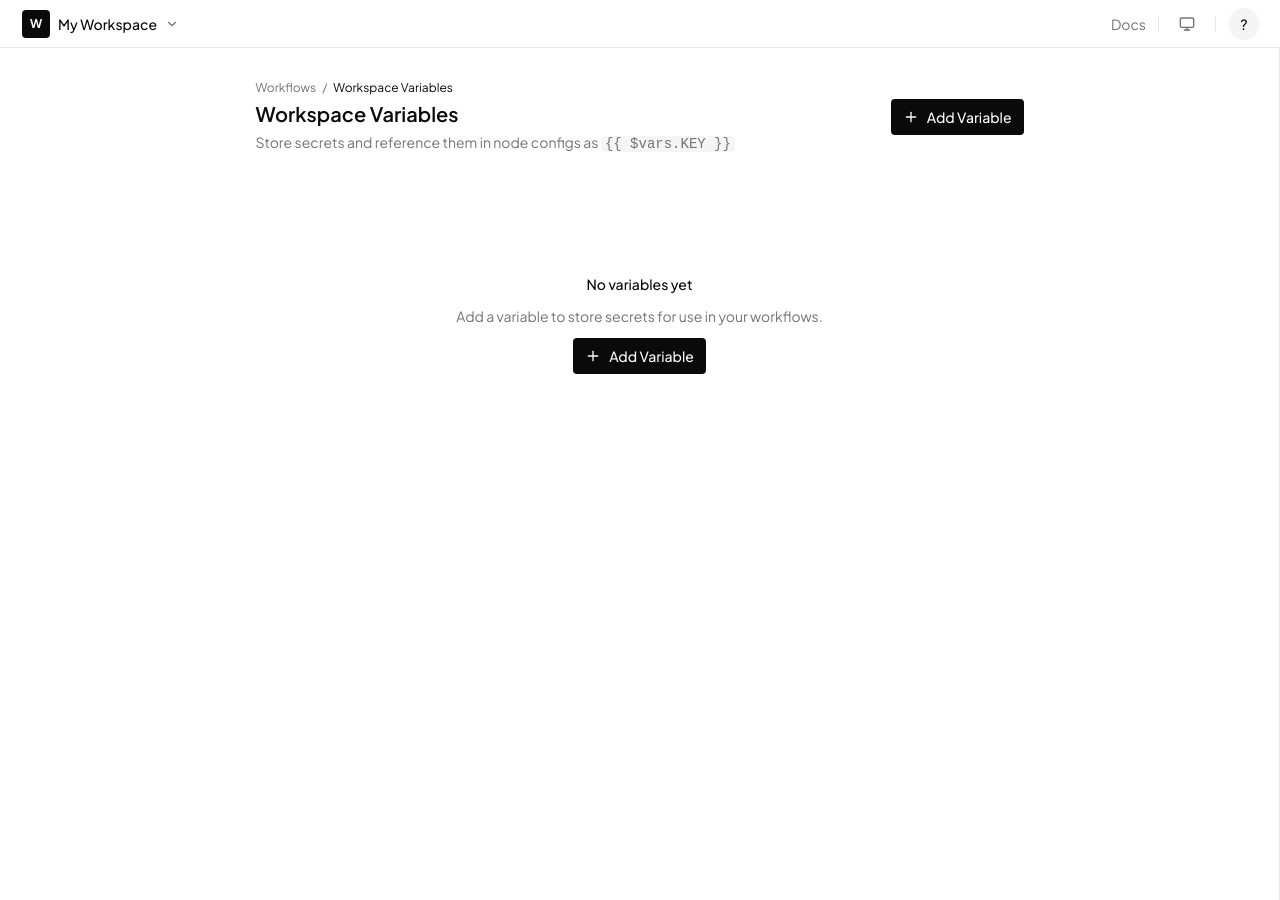
Test: VariablesPage — add variable drawer › shows a validation error when key contains invalid characters
Click the 1st button "Add Variable".
click(957, 117)  # box x1=891 y1=99 x2=1024 y2=135
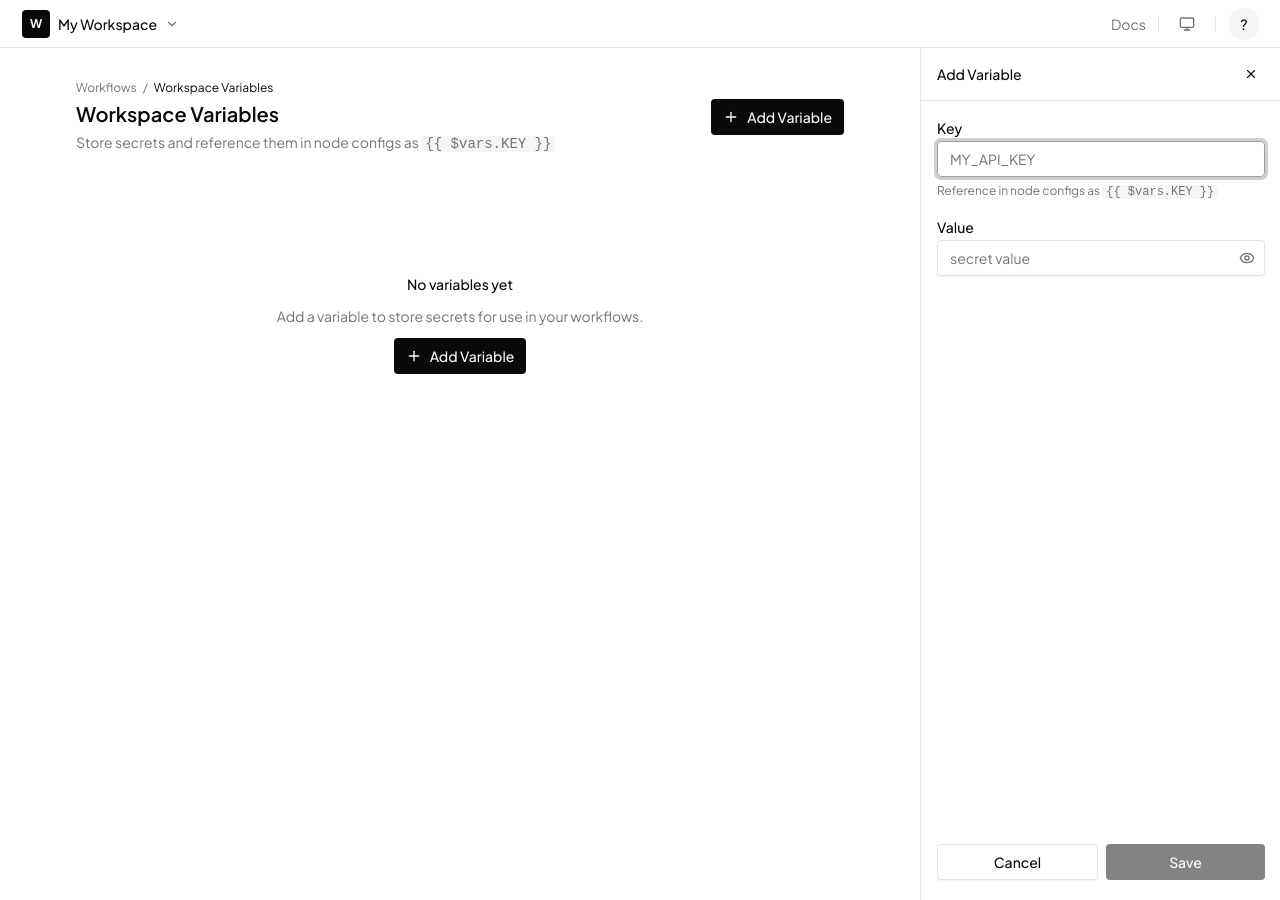
Type "invalid-key!" into the field labelled "Key".
click(1101, 159); type("invalid-key!")  # box x1=937 y1=141 x2=1265 y2=177
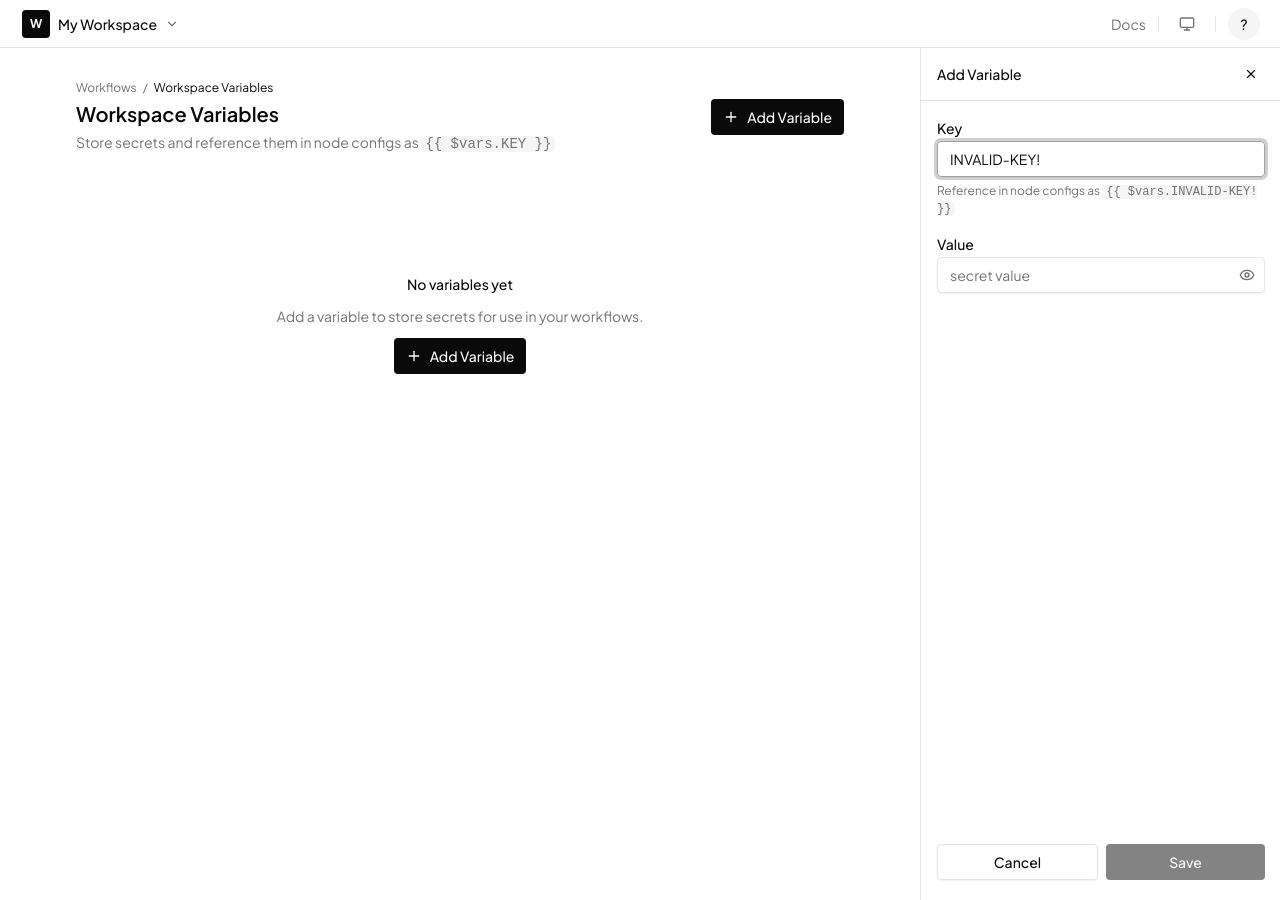
Type "somevalue" into the password field labelled "Value".
click(1101, 275); type("somevalue")  # box x1=937 y1=257 x2=1265 y2=293
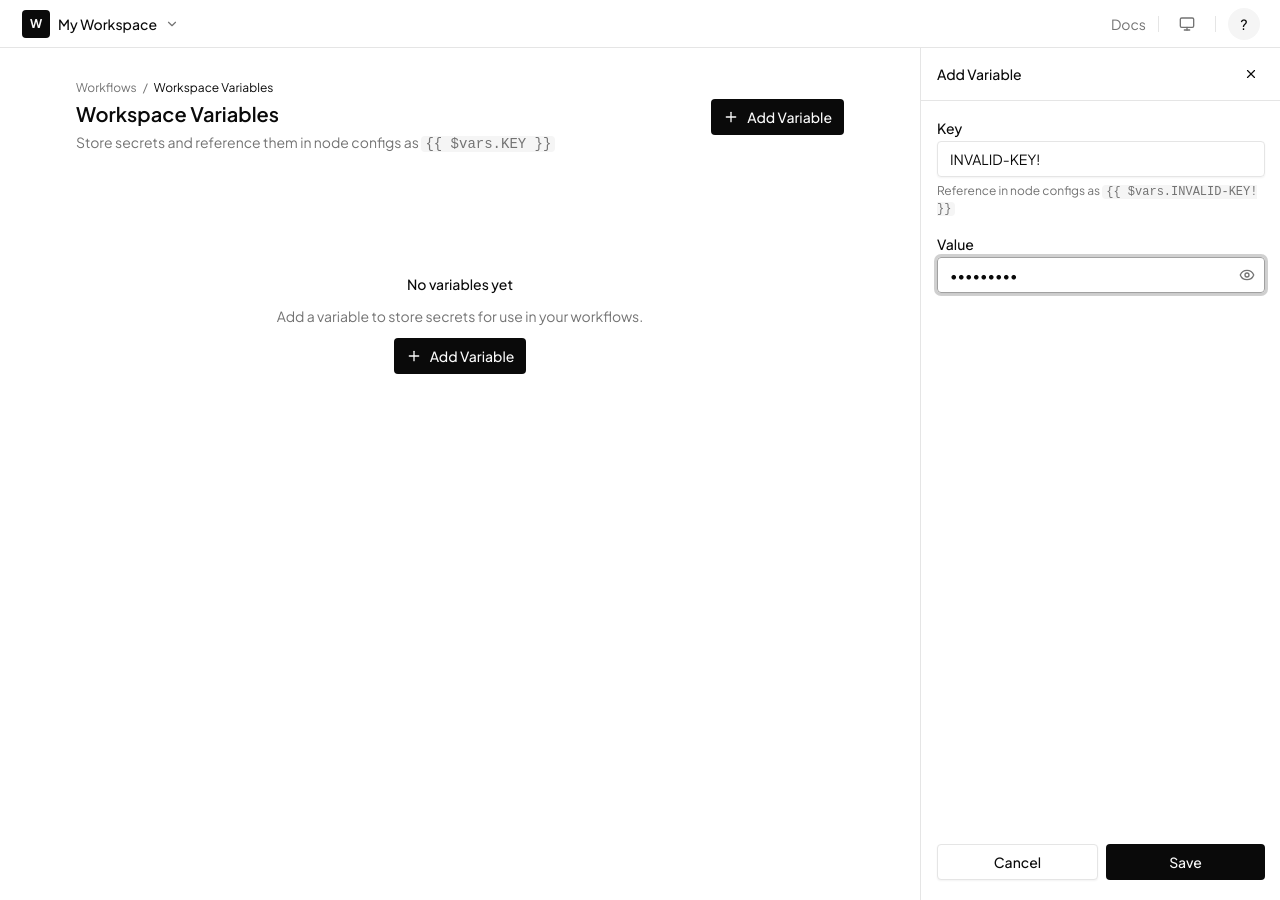
Click the button "Save".
click(1186, 862)  # box x1=1106 y1=844 x2=1265 y2=880
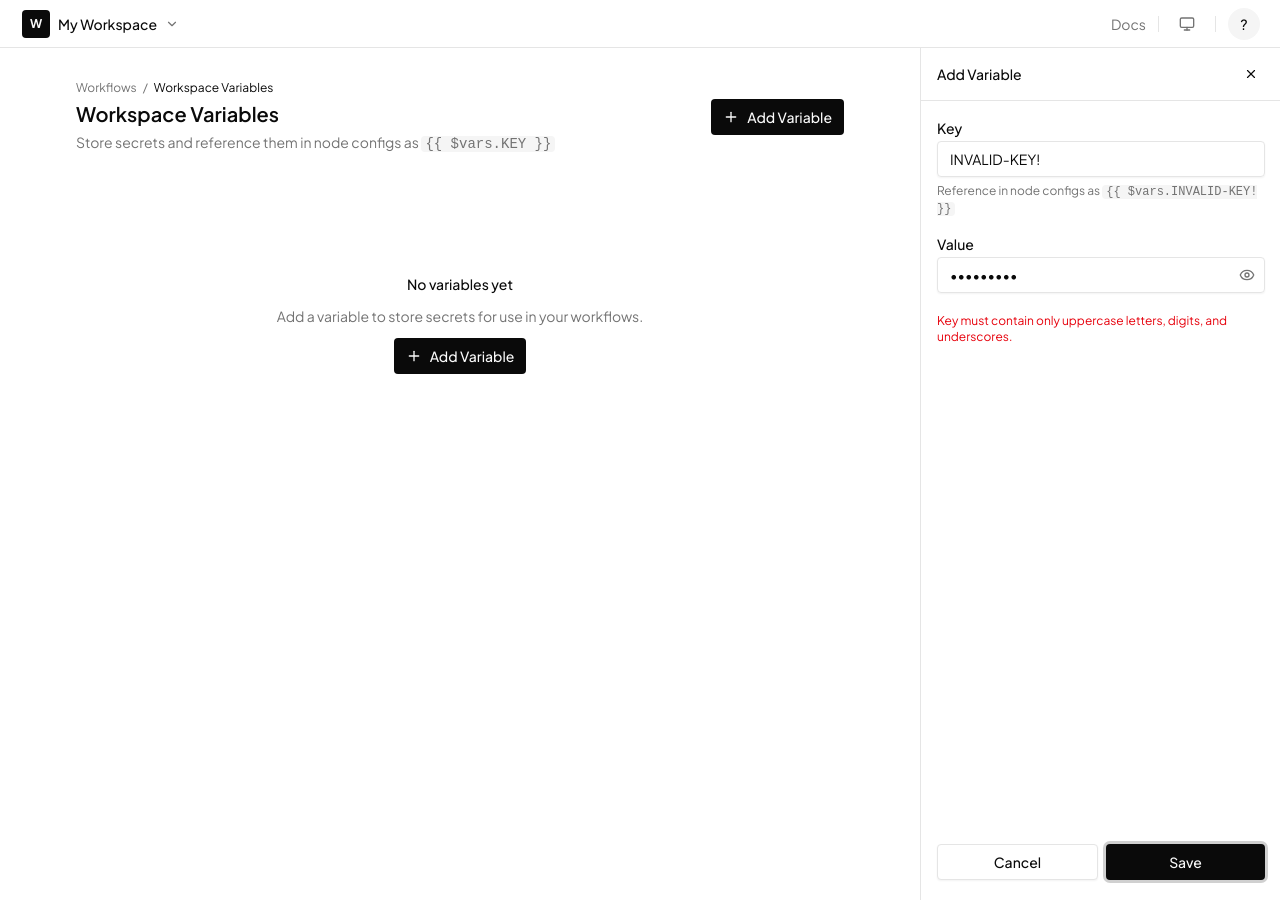
Check: the text "uppercase letters, digits, and underscores" is shown, box x1=937 y1=313 x2=1227 y2=344
